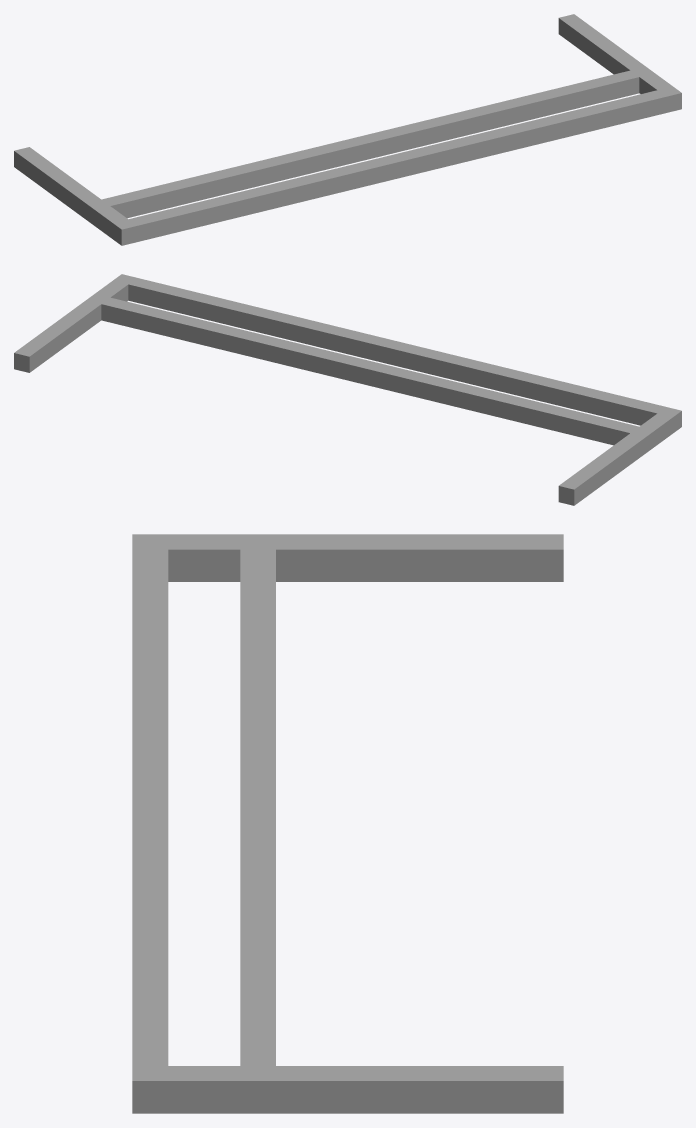
File: overhead-bar.obj
3 renders of one model, top to bottom at view 1: azimuth 30°, elevation 25°; view 2: azimuth 150°, elevation 25°; view 3: azimuth 270°, elevation 25°, orthographic. The views are drawn at different scales.
Bounding box in the file's own units: 36 × 1 × 12.
Materials: 1 (1 with a texture image).
